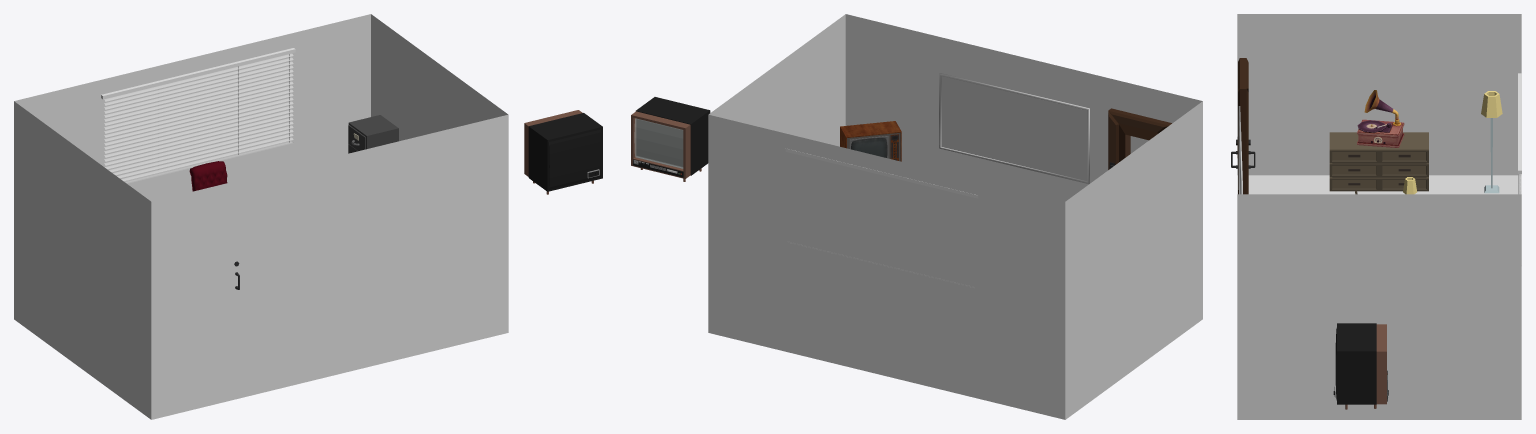
Rendered from office.gltf.
3 views of the same model, side by side, from view 1: azimuth 30°, elevation 25°; view 2: azimuth 150°, elevation 25°; view 3: azimuth 270°, elevation 25° (orthographic). The views are drawn at different scales.
Visible parts, largest first — view 1: Cube.001, Cube, 3DSMeshMatrix, group1644547169, group693330270, Main_, Low_Back; view 2: Cube.001, Cube, Blackboard_Q, group693330270, group1626004127, Door, group1832607466, group1410419148, TV_Main_0, 3DSMeshMatrix, TV_Screen_0; view 3: Cube.001, Cube, Drawer, group693330270, Record_Player, Door, lampRoundFloor_1, group1085757518, 3DSMeshMatrix, Blackboard_Q, group684330329.
Boxes of the visible parts, <box> form: Cube.001: <box>14,14,508,358</box>; Cube: <box>14,257,508,419</box>; 3DSMeshMatrix: <box>101,48,295,183</box>; group1644547169: <box>548,129,601,189</box>; group693330270: <box>528,113,602,191</box>; Main_: <box>348,115,398,149</box>; Low_Back: <box>189,161,227,191</box>; Cube.001: <box>708,14,1202,358</box>; Cube: <box>708,257,1202,419</box>; Blackboard_Q: <box>939,73,1089,183</box>; group693330270: <box>635,97,710,175</box>; group1626004127: <box>634,118,683,168</box>; Door: <box>1108,108,1171,169</box>; group1832607466: <box>636,119,682,167</box>; group1410419148: <box>636,119,682,166</box>; TV_Main_0: <box>840,121,901,161</box>; 3DSMeshMatrix: <box>785,148,978,287</box>; TV_Screen_0: <box>851,138,887,157</box>; Cube.001: <box>1237,14,1521,356</box>; Cube: <box>1237,175,1521,419</box>; Drawer: <box>1329,132,1428,191</box>; group693330270: <box>1337,323,1376,404</box>; Record_Player: <box>1357,90,1404,147</box>; Door: <box>1231,58,1255,194</box>; lampRoundFloor_1: <box>1481,91,1502,193</box>; group1085757518: <box>1376,352,1386,404</box>; 3DSMeshMatrix: <box>1518,73,1521,265</box>; Blackboard_Q: <box>1238,106,1242,194</box>; group684330329: <box>1376,325,1386,353</box>.
Size of the model in its own units: 16.8 by 7.01 by 8.18.
